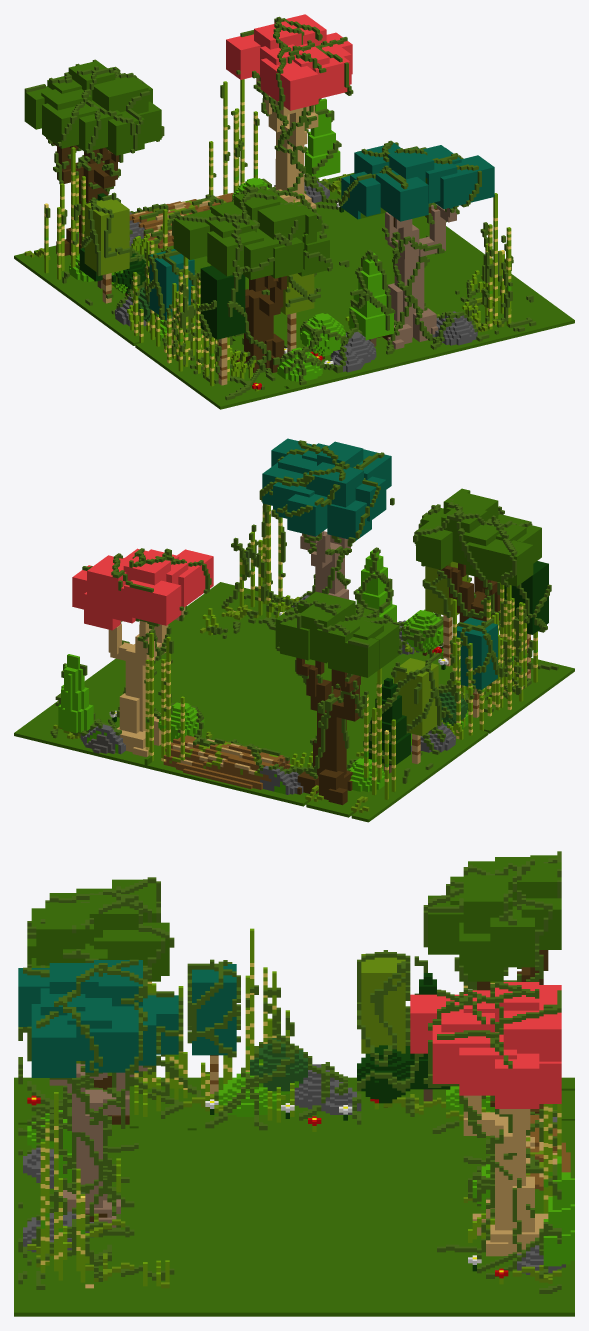
The model's file is Tiles 3 bord.obj.
3 renders of one model, top to bottom at view 1: azimuth 30°, elevation 25°; view 2: azimuth 150°, elevation 25°; view 3: azimuth 270°, elevation 25°, orthographic. The views are drawn at different scales.
Visible parts, largest first — view 1: Tiles 3 bord; view 2: Tiles 3 bord; view 3: Tiles 3 bord.
Boxes of the visible parts, x1,y1,x2,y2 form: Tiles 3 bord: [14, 14, 574, 409]; Tiles 3 bord: [14, 438, 574, 822]; Tiles 3 bord: [14, 851, 574, 1316].
Bounding box in the file's own units: 125 × 64 × 126.
Materials: 1 (1 with a texture image).
